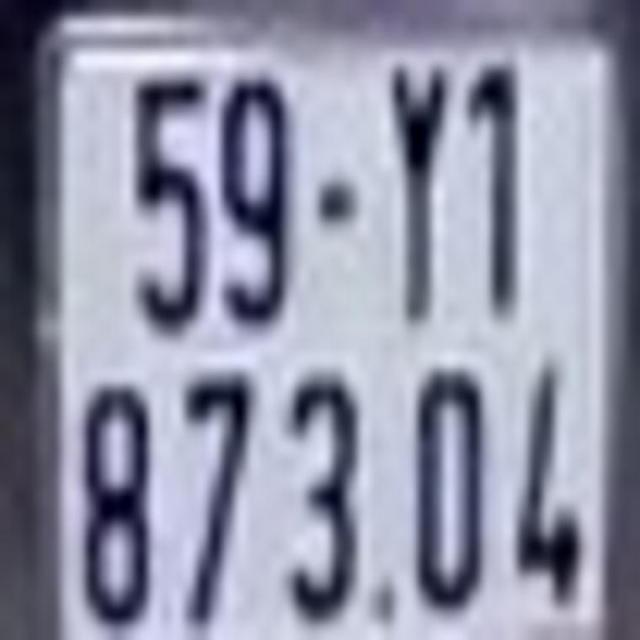0: (409, 378, 491, 601)
1: (471, 72, 529, 327)
3: (282, 385, 361, 616)
4: (511, 367, 589, 602)
5: (135, 78, 214, 324)
7: (184, 382, 244, 620)
8: (78, 386, 155, 621)
9: (222, 80, 286, 316)
Y: (379, 75, 453, 319)
